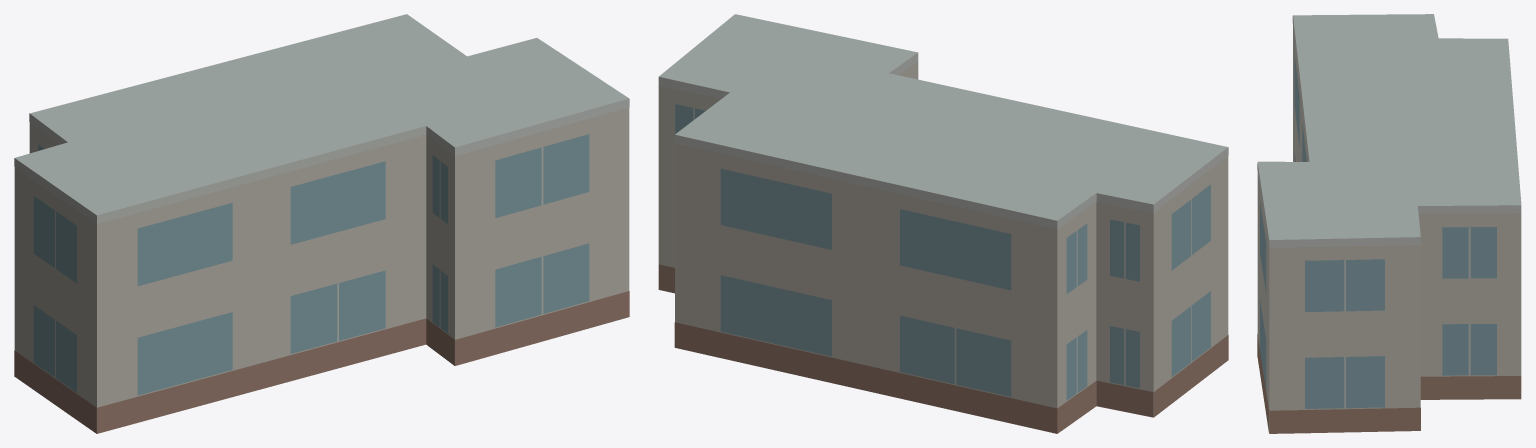
File: survey-upis-32684321.glb
3 views of the same model, side by side, from view 1: azimuth 30°, elevation 25°; view 2: azimuth 150°, elevation 25°; view 3: azimuth 270°, elevation 25° (orthographic). The views are drawn at different scales.
Visible parts, largest first — view 1: survey-upis-32684321.tmp; view 2: survey-upis-32684321.tmp; view 3: survey-upis-32684321.tmp.
Part boxes in pixels (left/top/right/bottom): survey-upis-32684321.tmp: left=14, top=14, right=629, bottom=433; survey-upis-32684321.tmp: left=658, top=14, right=1228, bottom=433; survey-upis-32684321.tmp: left=1257, top=14, right=1521, bottom=433.
Size of the model in its own units: 15.27 by 6.1 by 7.54.
